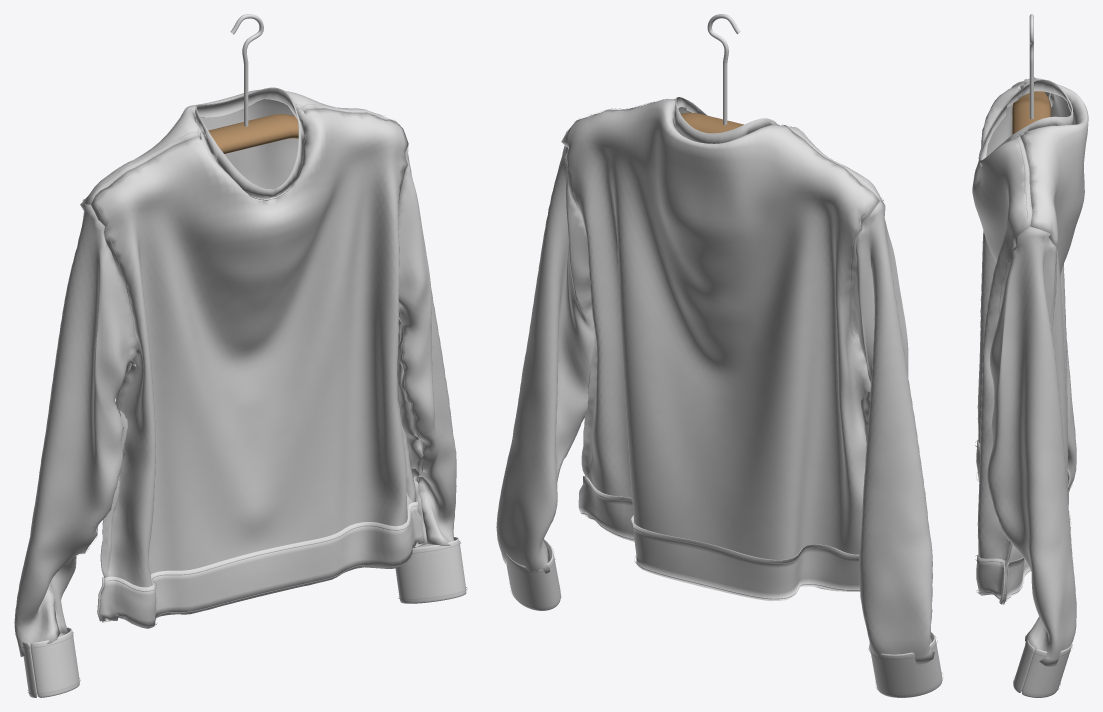
The model's file is sweat.glb.
3 views of the same model, side by side, from view 1: azimuth 30°, elevation 25°; view 2: azimuth 150°, elevation 25°; view 3: azimuth 270°, elevation 25° (orthographic). The views are drawn at different scales.
Visible parts, largest first — view 1: cloth-sweat, stitch, hanger-wood, hook; view 2: cloth-sweat, stitch, hanger-wood, hook; view 3: cloth-sweat, hanger-wood, stitch, hook.
Part boxes in pixels (x1,y1,x2,y2): cloth-sweat: (14,87,466,697); stitch: (21,104,467,694); hanger-wood: (208,114,298,153); hook: (230,14,263,126); cloth-sweat: (496,97,942,697); stitch: (504,100,943,695); hanger-wood: (680,112,743,133); hook: (707,14,740,124); cloth-sweat: (972,78,1088,697); hanger-wood: (1012,91,1051,134); stitch: (975,77,1072,695); hook: (1029,14,1033,118).
Size of the model in its own units: 0.6251 by 0.8659 by 0.1544.
